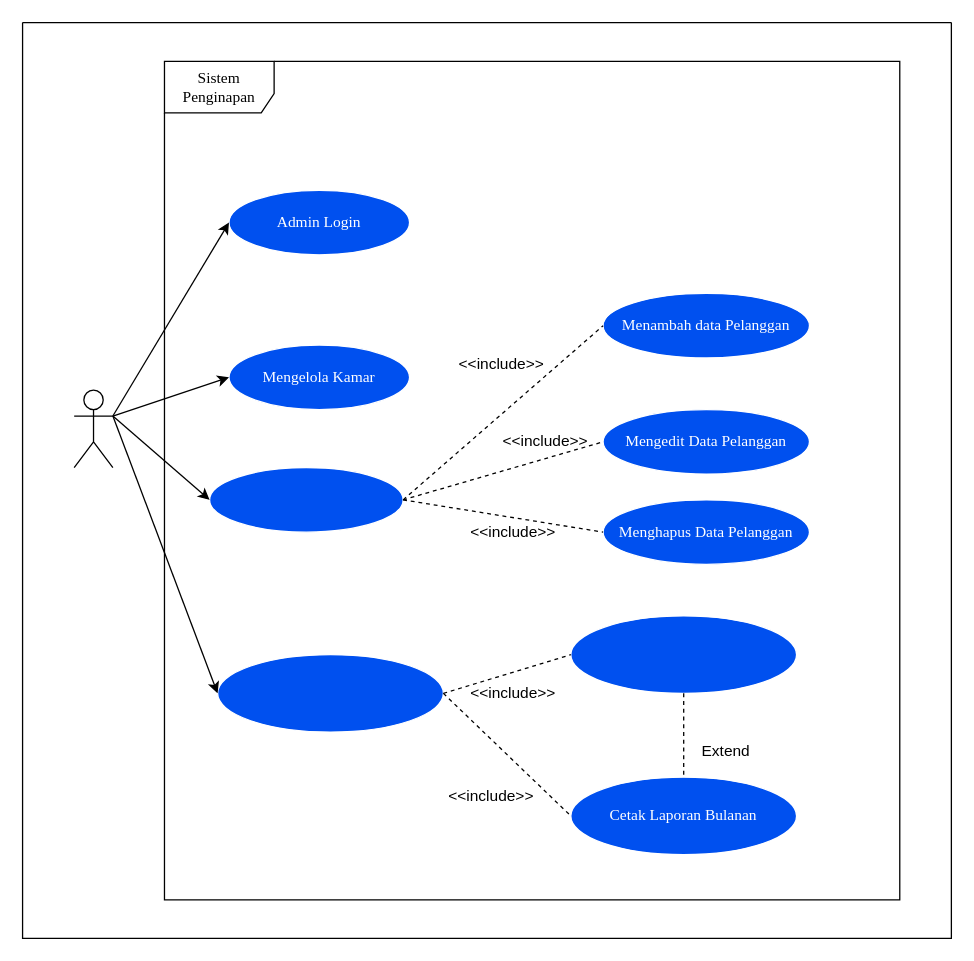
Image size: 974x961. Some labels were removed from this diagram. The shapes that lost their labels are listed below. From the top down, each one's centre as x and y in pixels, then its label:
At point (93, 428): "Admin".
At point (305, 499): "Mengelola Data Pelanggan".
At point (683, 654): "Cek Laporan Bulanan".
At point (329, 692): "Mengelola Laporan Bulanan".
